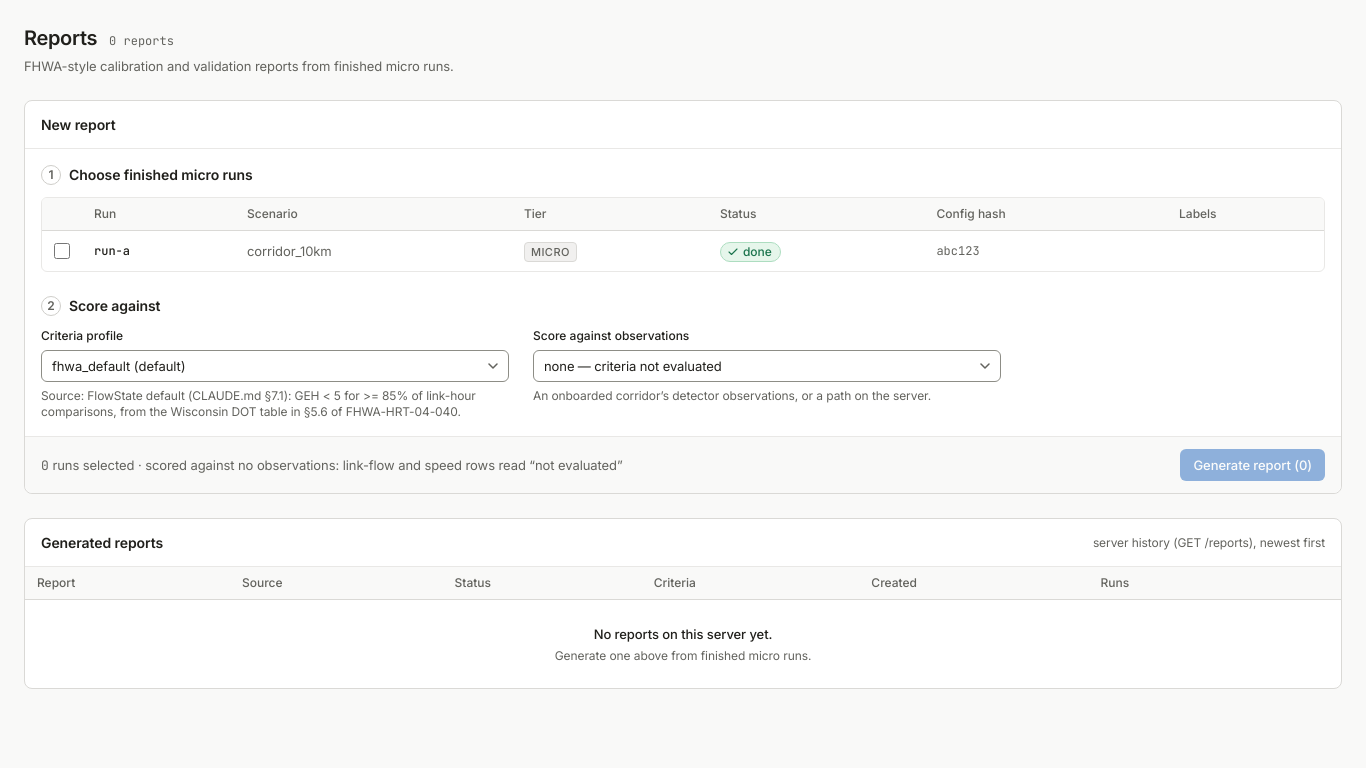
Test: ReportsView (asynchronous report contract) › surfaces an asynchronous refusal as failed with its error_kind and keeps download locked
Click the checkbox named "select run-a": click(62, 251) [54,243,70,259]
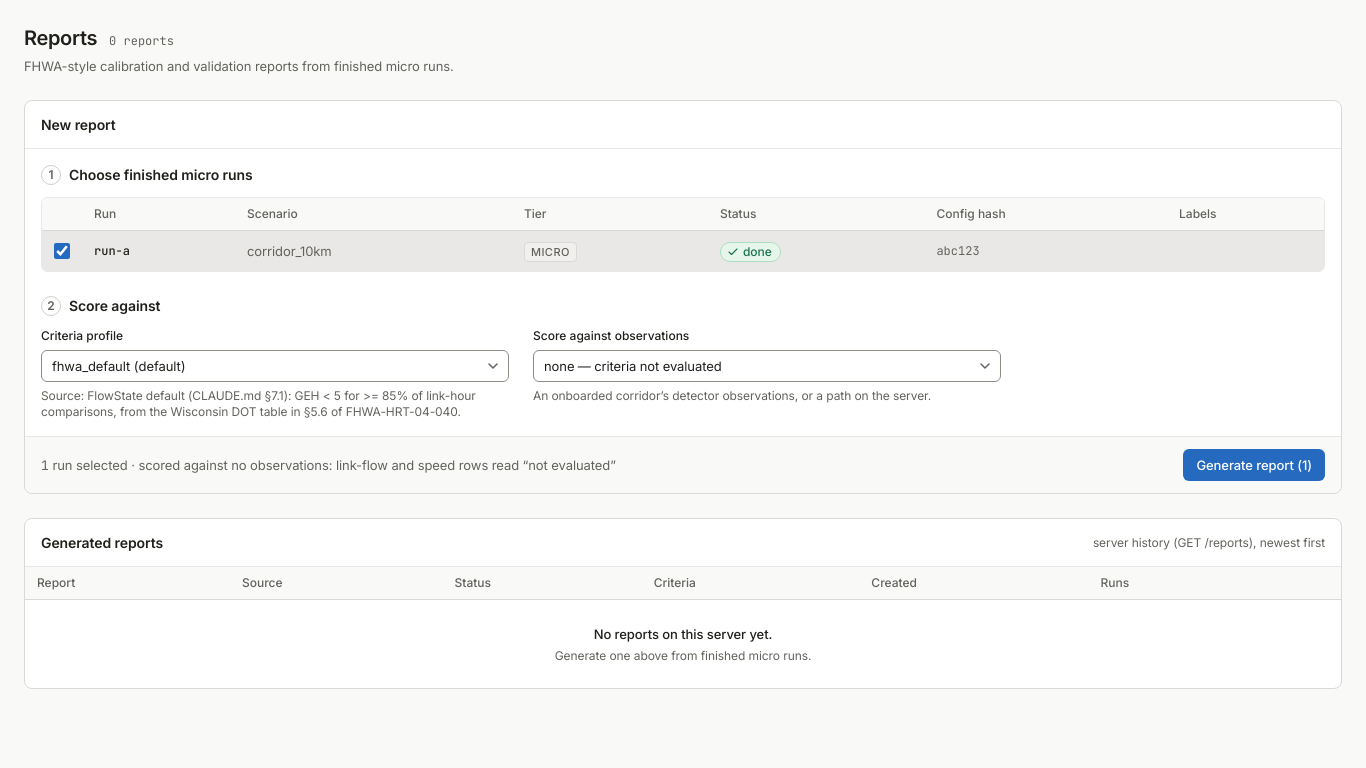
Click the button "Generate report (1)": click(1254, 465) [1183,449,1325,481]
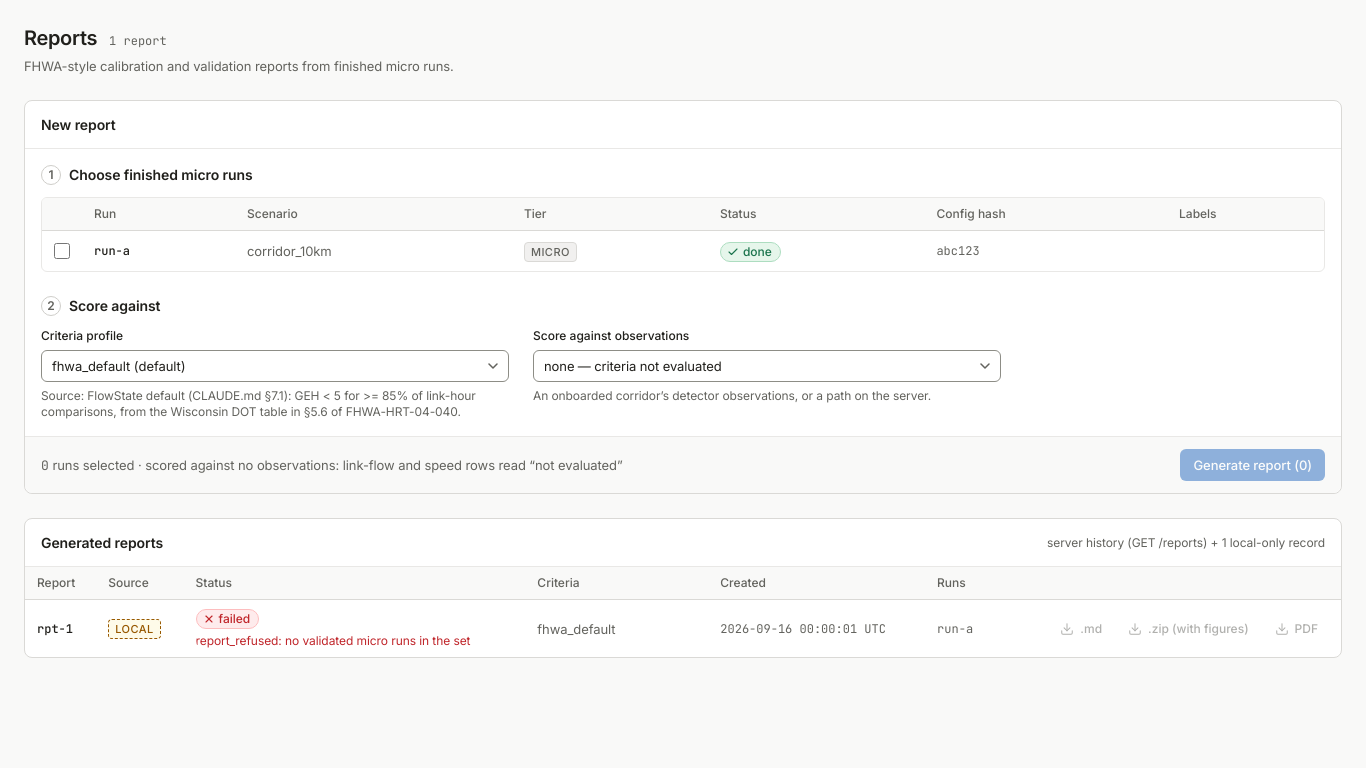
Check: the text "failed" is shown, box [196,610,259,630]
Check: the text "report_refused: no validated micro runs in the set" is shown, box [196,634,513,650]
Check: the button with aria-label "Download .md" is disabled, box [1049,615,1113,643]
